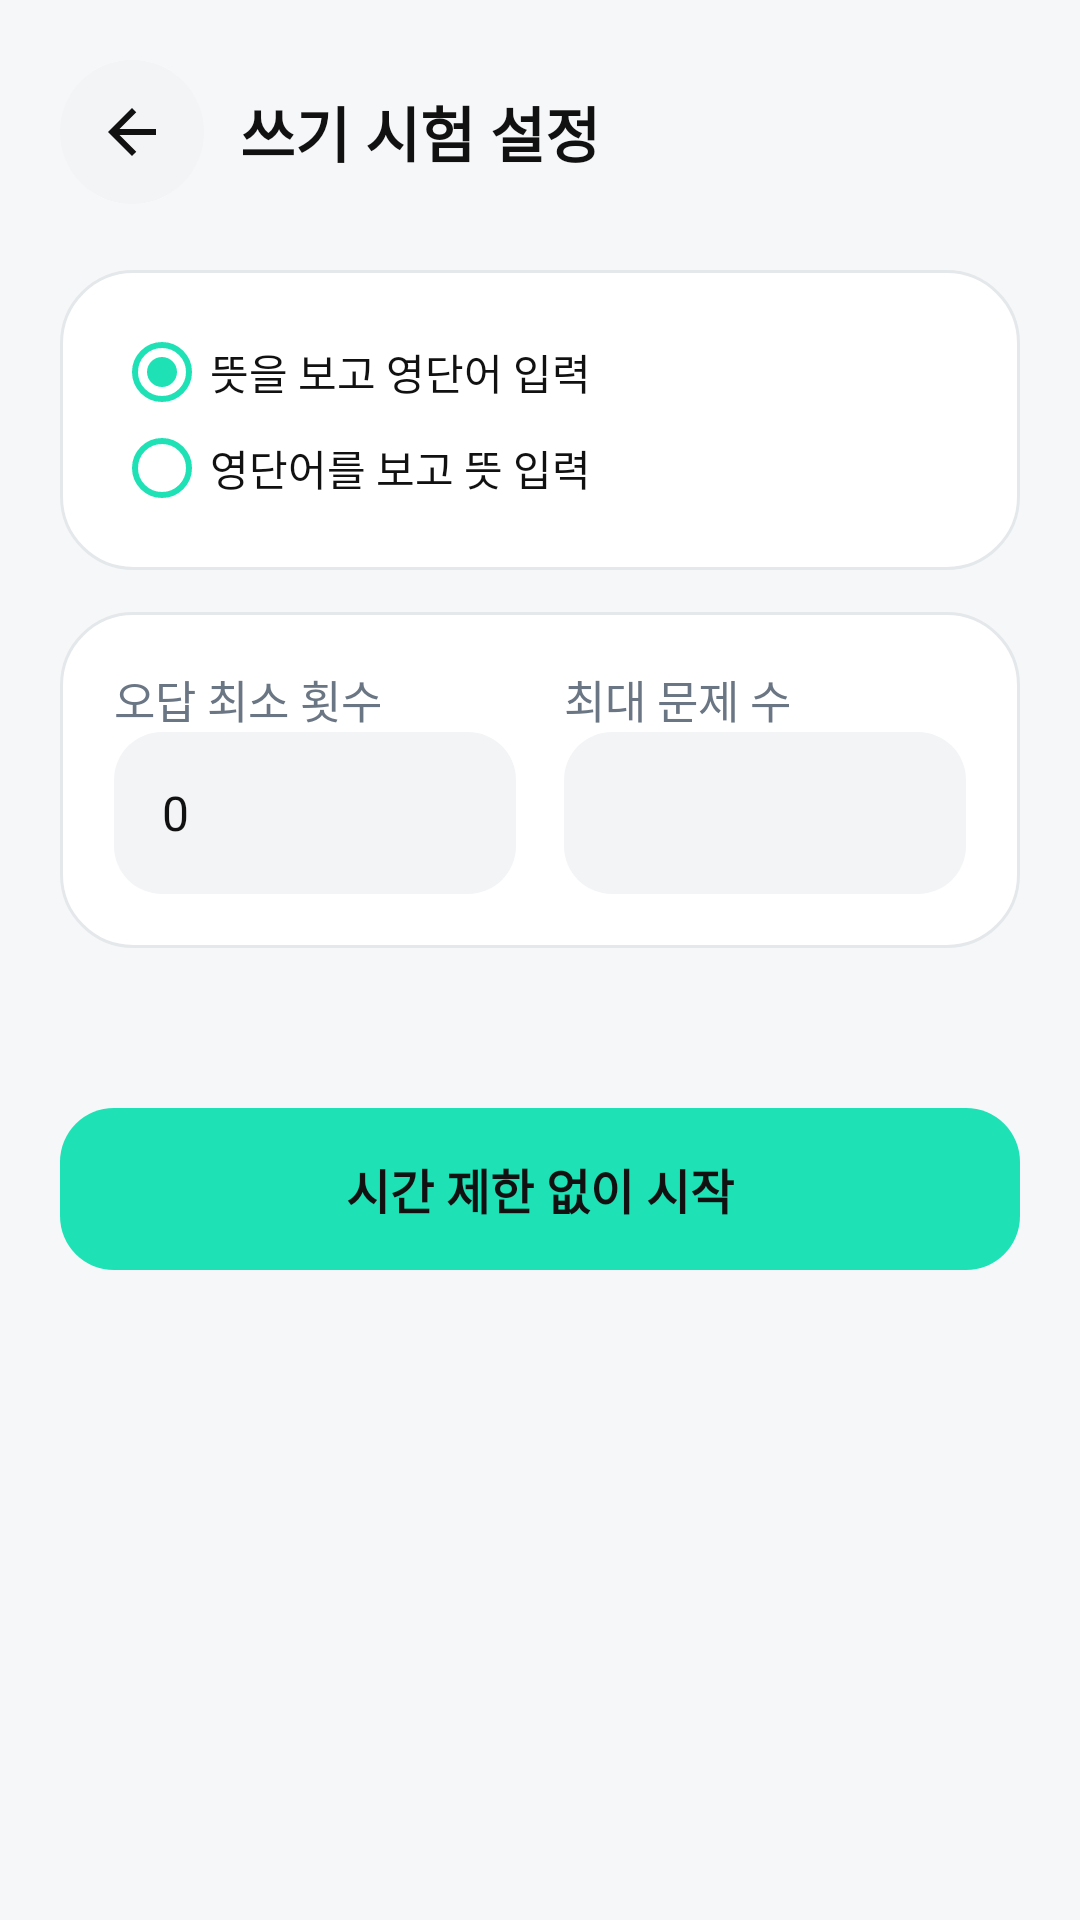

Icons on this 1080 × 1920 Android screen, each with its box as box(x1, y1, x2, y2):
뒤로 가기: box(108, 108, 156, 156)
